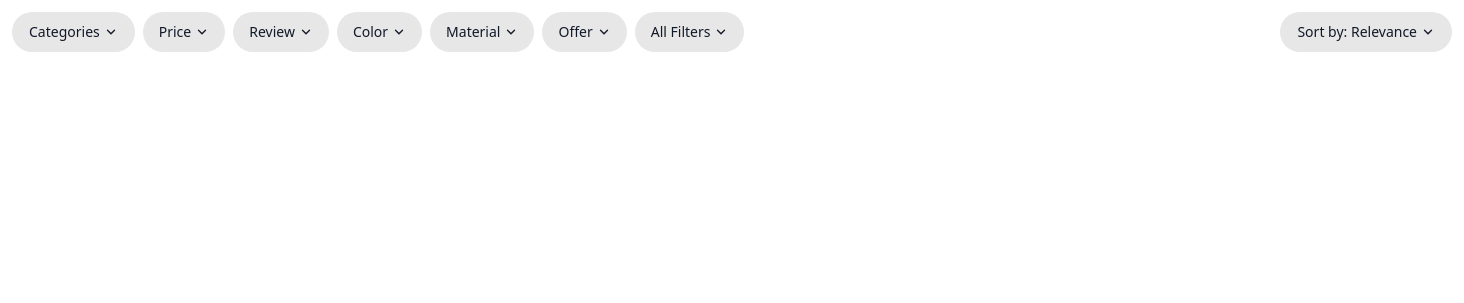
Test: FilterBar › opens listbox when category pill is clicked
Click the button "Categories" at (73, 32), box top-left (12, 12), bottom-right (135, 52)
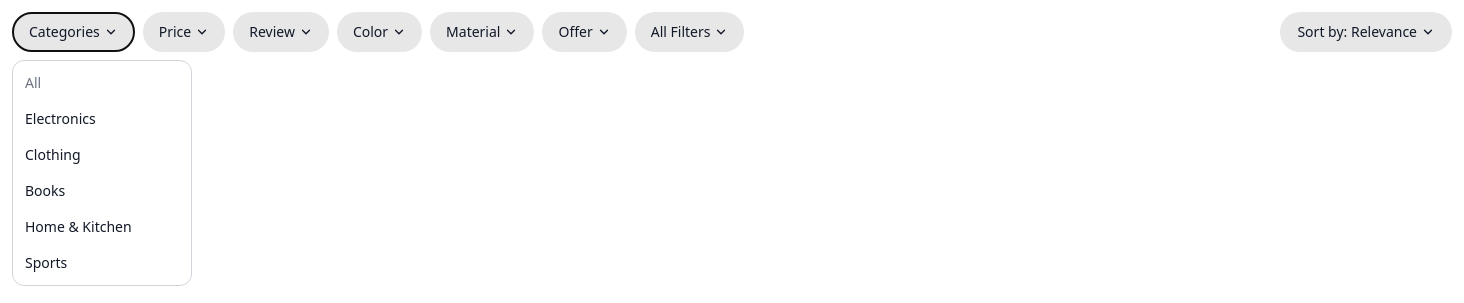
Expected: the list is shown, top-left (12, 60), bottom-right (192, 286)
